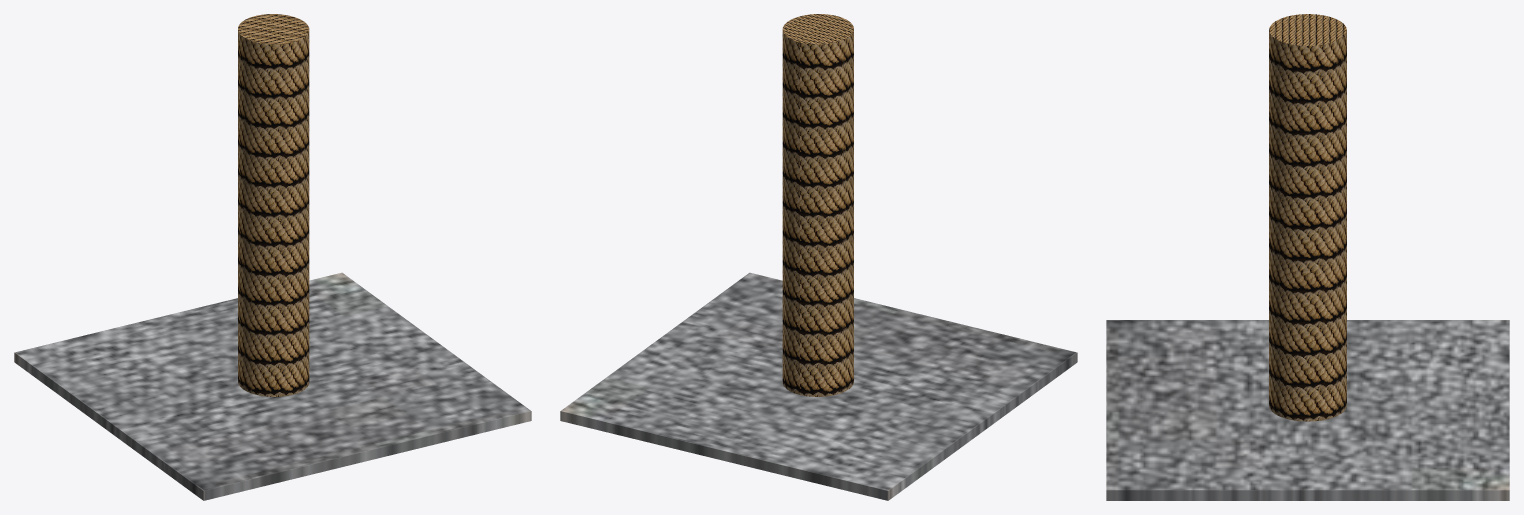
The model's file is house4.gltf.
The picture shows the model from 3 angles, left to right: view 1: azimuth 30°, elevation 25°; view 2: azimuth 150°, elevation 25°; view 3: azimuth 270°, elevation 25°; orthographic projection. The views are drawn at different scales.
Visible parts, largest first — view 1: Плоскость, Цилиндр; view 2: Плоскость, Цилиндр; view 3: Плоскость, Цилиндр.
Part boxes in pixels (left/top/right/bottom): Плоскость: left=14, top=272, right=531, bottom=500; Цилиндр: left=238, top=14, right=309, bottom=396; Плоскость: left=560, top=272, right=1077, bottom=500; Цилиндр: left=782, top=14, right=853, bottom=396; Плоскость: left=1106, top=320, right=1509, bottom=500; Цилиндр: left=1269, top=14, right=1346, bottom=421.
Bounding box in the file's own units: 2.95 × 3.12 × 2.95.
2 materials, 2 textured.
